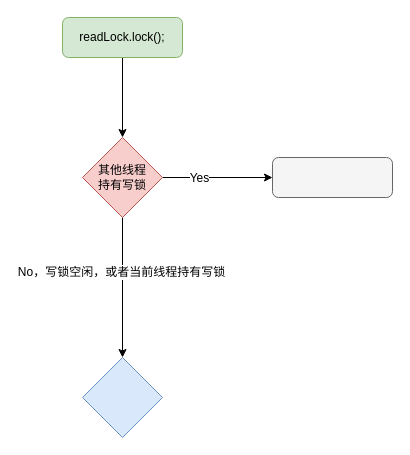
Some shapes in this 410 by 455 pixel diagram are drawn without their labels. The centre of each missing label's shape, as x and y in pixels:
"CAS获取锁" goes at (x=122, y=397).
"锁获取失败" goes at (x=332, y=177).
